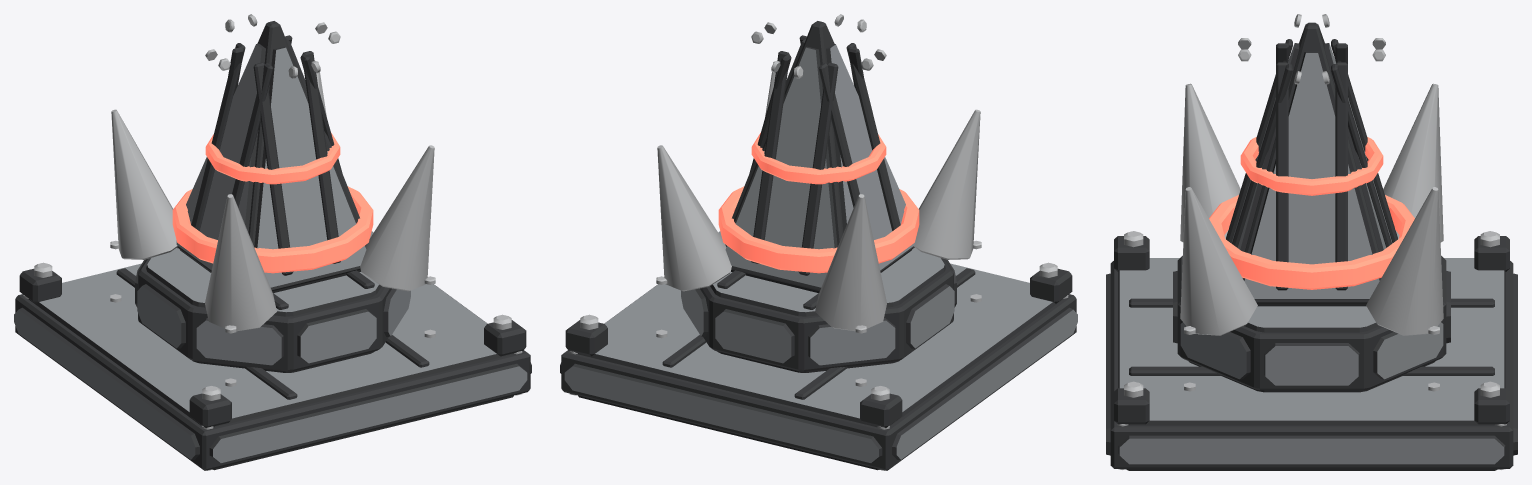
The model's file is R4X_DamageBooster.fbx.
3 renders of one model, left to right at view 1: azimuth 30°, elevation 25°; view 2: azimuth 150°, elevation 25°; view 3: azimuth 270°, elevation 25°, orthographic. The views are drawn at different scales.
Visible parts, largest first — view 1: R4X_DamageBooster_Body; view 2: R4X_DamageBooster_Body; view 3: R4X_DamageBooster_Body.
Part boxes in pixels (box(x1,y1,x2,y2)): R4X_DamageBooster_Body: box(14, 14, 531, 470); R4X_DamageBooster_Body: box(560, 14, 1077, 470); R4X_DamageBooster_Body: box(1106, 14, 1517, 470).
Size of the model in its own units: 0.52 by 0.509 by 0.52.
